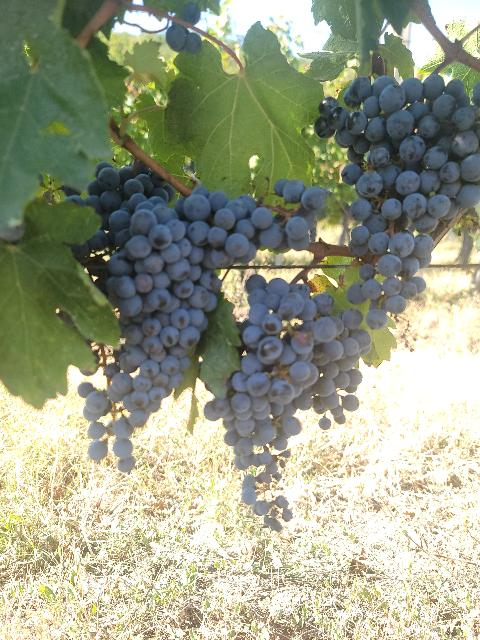grapes: (71, 161, 258, 390), (314, 74, 480, 329), (204, 275, 371, 482)
